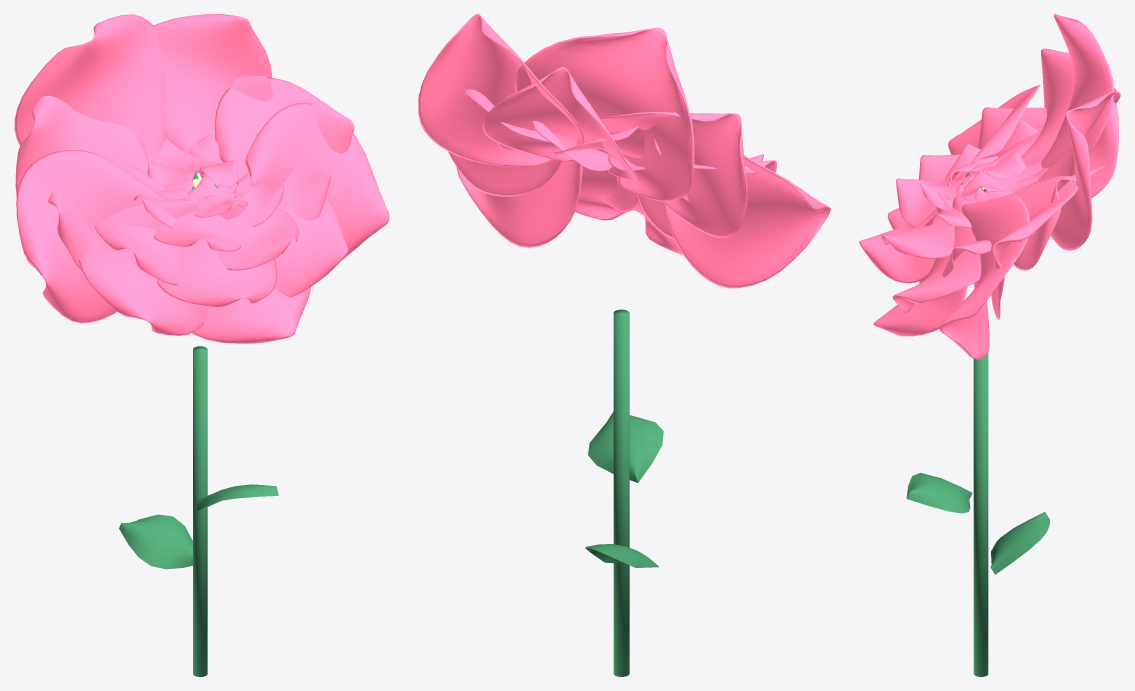
Rendered from magic_flower.glb.
3 views of the same model, side by side, from view 1: azimuth 30°, elevation 25°; view 2: azimuth 150°, elevation 25°; view 3: azimuth 270°, elevation 25° (orthographic). The views are drawn at different scales.
Visible parts, largest first — view 1: Blossom_Head, Stem_Group; view 2: Blossom_Head, Stem_Group; view 3: Blossom_Head, Stem_Group.
Part boxes in pixels (<box>): Blossom_Head: <box>14,14,389,343</box>; Stem_Group: <box>119,346,278,676</box>; Blossom_Head: <box>418,14,830,288</box>; Stem_Group: <box>585,309,663,676</box>; Blossom_Head: <box>859,14,1120,359</box>; Stem_Group: <box>906,352,1049,676</box>.
Size of the model in its own units: 2.47 by 4.24 by 1.61.
